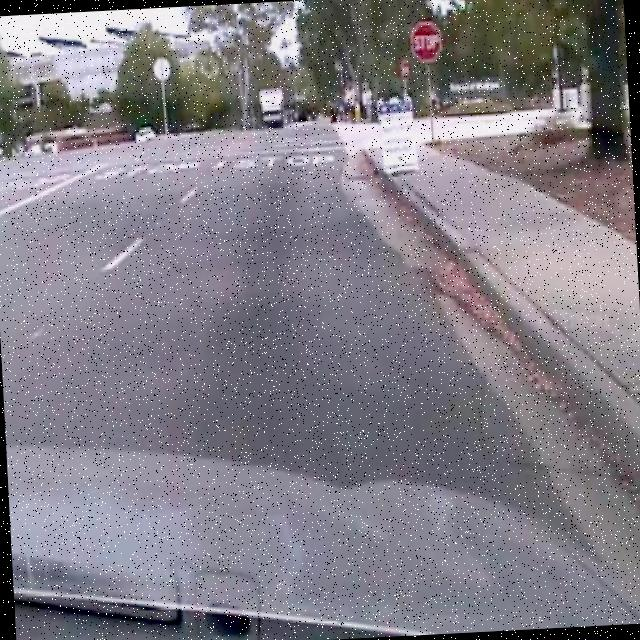Stop: (408, 17, 446, 66)
